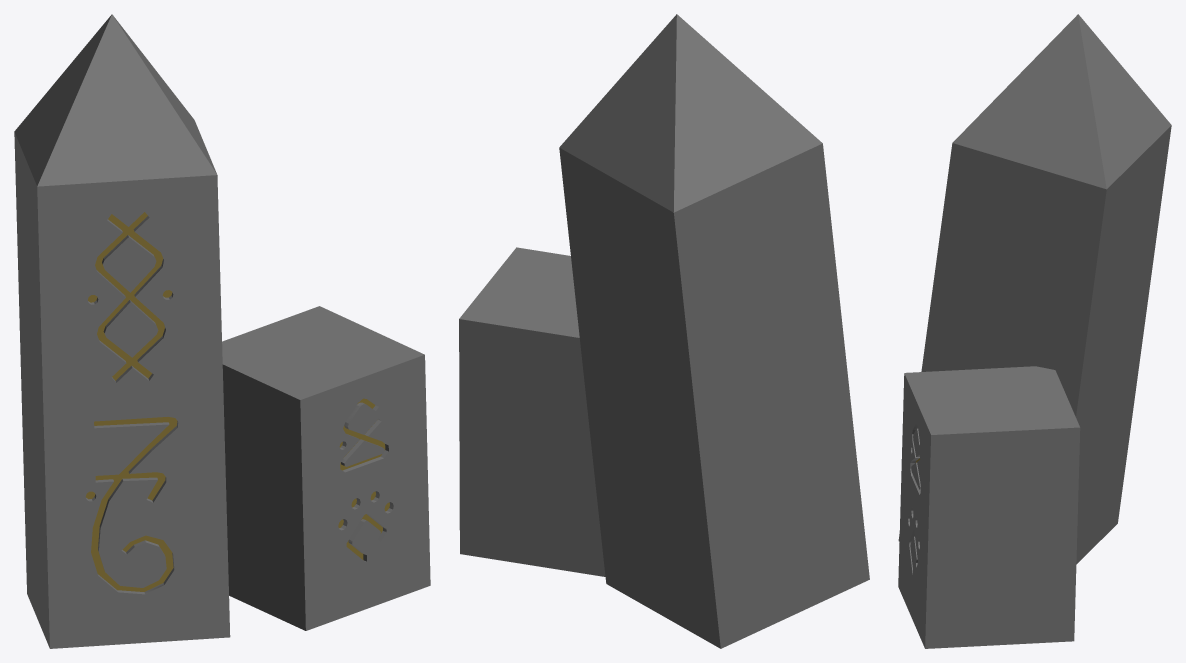
File: runsten.fbx
3 views of the same model, side by side, from view 1: azimuth 30°, elevation 25°; view 2: azimuth 150°, elevation 25°; view 3: azimuth 270°, elevation 25° (orthographic). The views are drawn at different scales.
Parts seen in each view (by area): view 1: stor_sten, liten_sten; view 2: stor_sten, liten_sten; view 3: stor_sten, liten_sten.
Boxes of the visible parts, left/top/right/bottom form: stor_sten: left=14, top=14, right=230, bottom=648; liten_sten: left=222, top=306, right=430, bottom=630; stor_sten: left=559, top=14, right=869, bottom=648; liten_sten: left=459, top=247, right=605, bottom=576; stor_sten: left=898, top=14, right=1171, bottom=564; liten_sten: left=898, top=366, right=1080, bottom=648.
Size of the model in its own units: 2.29 by 3.52 by 1.62.
